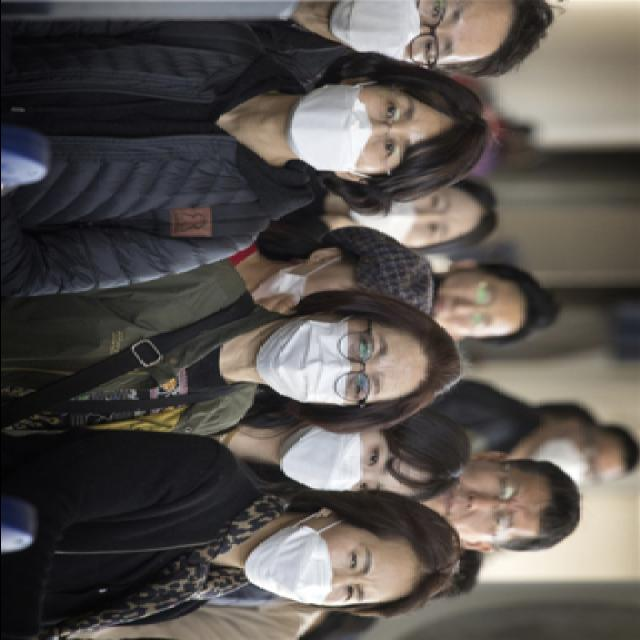with_mask: (282, 78, 422, 174), (264, 318, 396, 406), (244, 520, 380, 605), (333, 0, 467, 66), (278, 424, 400, 494), (349, 186, 455, 247)
without_mask: (420, 464, 531, 547), (427, 269, 509, 341)
